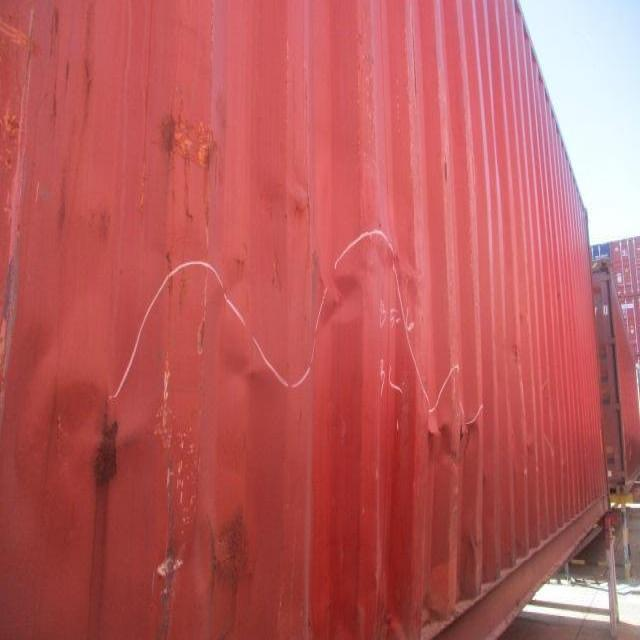dent: (49, 189, 498, 494)
